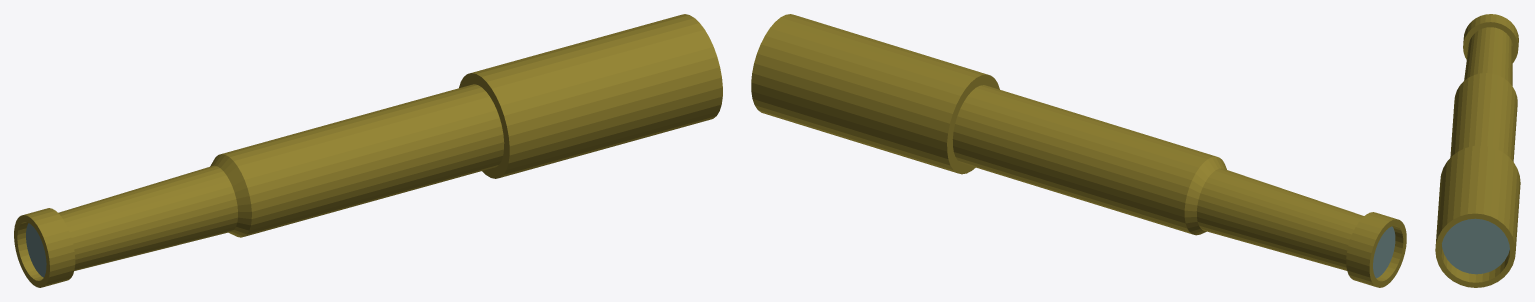
The model's file is Telescope.fbx.
The picture shows the model from 3 angles, left to right: view 1: azimuth 30°, elevation 25°; view 2: azimuth 150°, elevation 25°; view 3: azimuth 270°, elevation 25°; orthographic projection. The views are drawn at different scales.
Visible parts, largest first — view 1: Cylinder.010; view 2: Cylinder.010; view 3: Cylinder.010.
Part boxes in pixels (x1,y1,x2,y2): Cylinder.010: (14,14,722,287); Cylinder.010: (751,14,1406,287); Cylinder.010: (1435,14,1520,287).
Size of the model in its own units: 223 by 37.67 by 33.99.
